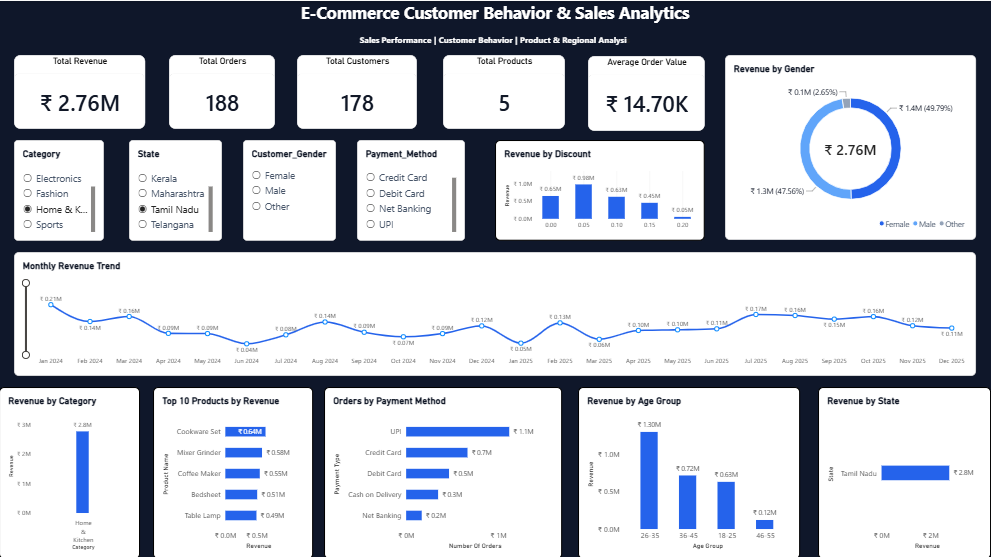

The page's visual inventory and layout, read from the dashboard file:
{"tool":"powerbi","page":{"name":"Page 1","canvas":[1920,1080],"ordinal":0},"visuals":[{"type":"cardVisual","title":"Total Revenue","fields":{"Data":["Sum(ecommerce_db ecommerce_sales.Revenue)"]},"box":[29,104.5,253.5,143.2],"z":0},{"type":"cardVisual","title":"Total Orders","fields":{"Data":["CountNonNull(ecommerce_db ecommerce_sales.Order_ID)"]},"box":[329,104.5,205.2,143.2],"z":1000},{"type":"cardVisual","title":"Total Customers","fields":{"Data":["Count(ecommerce_db ecommerce_sales.Customer_ID)"]},"box":[576.8,104.5,232.3,143.2],"z":2000},{"type":"cardVisual","title":"Total Products","fields":{"Data":["Count(ecommerce_db ecommerce_sales.Product_Name)"]},"box":[859.4,104.5,236.1,143.2],"z":3000},{"type":"cardVisual","title":"Average Order Value","fields":{"Data":["Avg(ecommerce_db ecommerce_sales.Revenue)"]},"box":[1140,106.5,226.5,145.2],"z":4000},{"type":"lineChart","title":"Monthly Revenue Trend","fields":{"Category":["ecommerce_db ecommerce_sales.YearMonth"],"Y":["Sum(ecommerce_db ecommerce_sales.Revenue)"]},"box":[28.9,485.2,1862.4,240.2],"z":5000},{"type":"clusteredColumnChart","title":"Revenue by Category","fields":{"Category":["ecommerce_db ecommerce_sales.Category"],"Y":["Sum(ecommerce_db ecommerce_sales.Revenue)"]},"box":[0,746.9,272.9,332.9],"z":6000},{"type":"barChart","title":"Orders by Payment Method","fields":{"Category":["ecommerce_db ecommerce_sales.Payment_Method"],"Y":["Sum(ecommerce_db ecommerce_sales.Revenue)"]},"box":[629,746.9,460.6,332.9],"z":7000},{"type":"barChart","title":"Top 10 Products by Revenue","fields":{"Category":["ecommerce_db ecommerce_sales.Product_Name"],"Y":["Sum(ecommerce_db ecommerce_sales.Revenue)"]},"box":[297.7,746.9,309.7,332.9],"z":8000},{"type":"columnChart","title":"Revenue by Age Group","fields":{"Category":["ecommerce_db ecommerce_sales.Age_Group"],"Y":["Sum(ecommerce_db ecommerce_sales.Revenue)"]},"box":[1120.6,746.9,429.7,332.9],"z":9000},{"type":"listSlicer","fields":{"Values":["ecommerce_db ecommerce_sales.Category"]},"box":[29,269,174.2,195.5],"z":10000},{"type":"listSlicer","fields":{"Values":["ecommerce_db ecommerce_sales.State"]},"box":[251.6,269,180,195.5],"z":11000},{"type":"listSlicer","fields":{"Values":["ecommerce_db ecommerce_sales.Customer_Gender"]},"box":[472.3,269,180,195.5],"z":12000},{"type":"listSlicer","fields":{"Values":["ecommerce_db ecommerce_sales.Payment_Method"]},"box":[692.9,269,209,195.5],"z":13000},{"type":"barChart","title":"Revenue by State","fields":{"Category":["ecommerce_db ecommerce_sales.State"],"Y":["Sum(ecommerce_db ecommerce_sales.Revenue)"]},"box":[1585.2,746.9,334.8,332.9],"z":14000},{"type":"textbox","box":[0,0,1920,63.9],"z":15000},{"type":"textbox","box":[0,63.9,1920,40.6],"z":16000},{"type":"donutChart","title":"Revenue by  Gender","fields":{"Category":["ecommerce_db ecommerce_sales.Customer_Gender"],"Y":["Sum(ecommerce_db ecommerce_sales.Revenue)"]},"box":[1405.2,104.5,485.8,358.1],"z":17000},{"type":"clusteredColumnChart","title":"Revenue by Discount","fields":{"Category":["ecommerce_db ecommerce_sales.Discount"],"Y":["Sum(ecommerce_db ecommerce_sales.Revenue)"]},"box":[960,269,406.5,195.5],"z":18000}]}

Visuals, with their boxes in screenshot pixels (x1, y1, x2, y2), scaled from the page's 1920x1080 canvas onto the 991x557 screenshot:
"Total Revenue" cardVisual: 15 54 146 128
"Total Orders" cardVisual: 170 54 276 128
"Total Customers" cardVisual: 298 54 418 128
"Total Products" cardVisual: 444 54 565 128
"Average Order Value" cardVisual: 588 55 705 130
"Monthly Revenue Trend" lineChart: 15 250 976 374
"Revenue by Category" clusteredColumnChart: 0 385 141 556
"Orders by Payment Method" barChart: 325 385 562 556
"Top 10 Products by Revenue" barChart: 154 385 314 556
"Revenue by Age Group" columnChart: 578 385 800 556
listSlicer - ecommerce_db ecommerce_sales.Category: 15 139 105 240
listSlicer - ecommerce_db ecommerce_sales.State: 130 139 223 240
listSlicer - ecommerce_db ecommerce_sales.Customer_Gender: 244 139 337 240
listSlicer - ecommerce_db ecommerce_sales.Payment_Method: 358 139 466 240
"Revenue by State" barChart: 818 385 990 556
textbox: 0 0 990 33
textbox: 0 33 990 54
"Revenue by  Gender" donutChart: 725 54 976 239
"Revenue by Discount" clusteredColumnChart: 496 139 705 240
